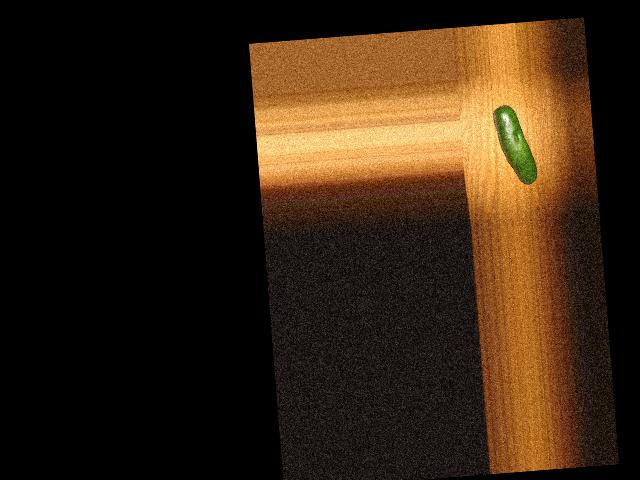cucumber: (492, 104, 537, 187)
